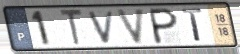1: (31, 9, 52, 47)
P: (149, 6, 180, 46)
T: (58, 8, 85, 48), (180, 7, 204, 43)
V: (115, 7, 148, 46), (87, 10, 117, 45)
